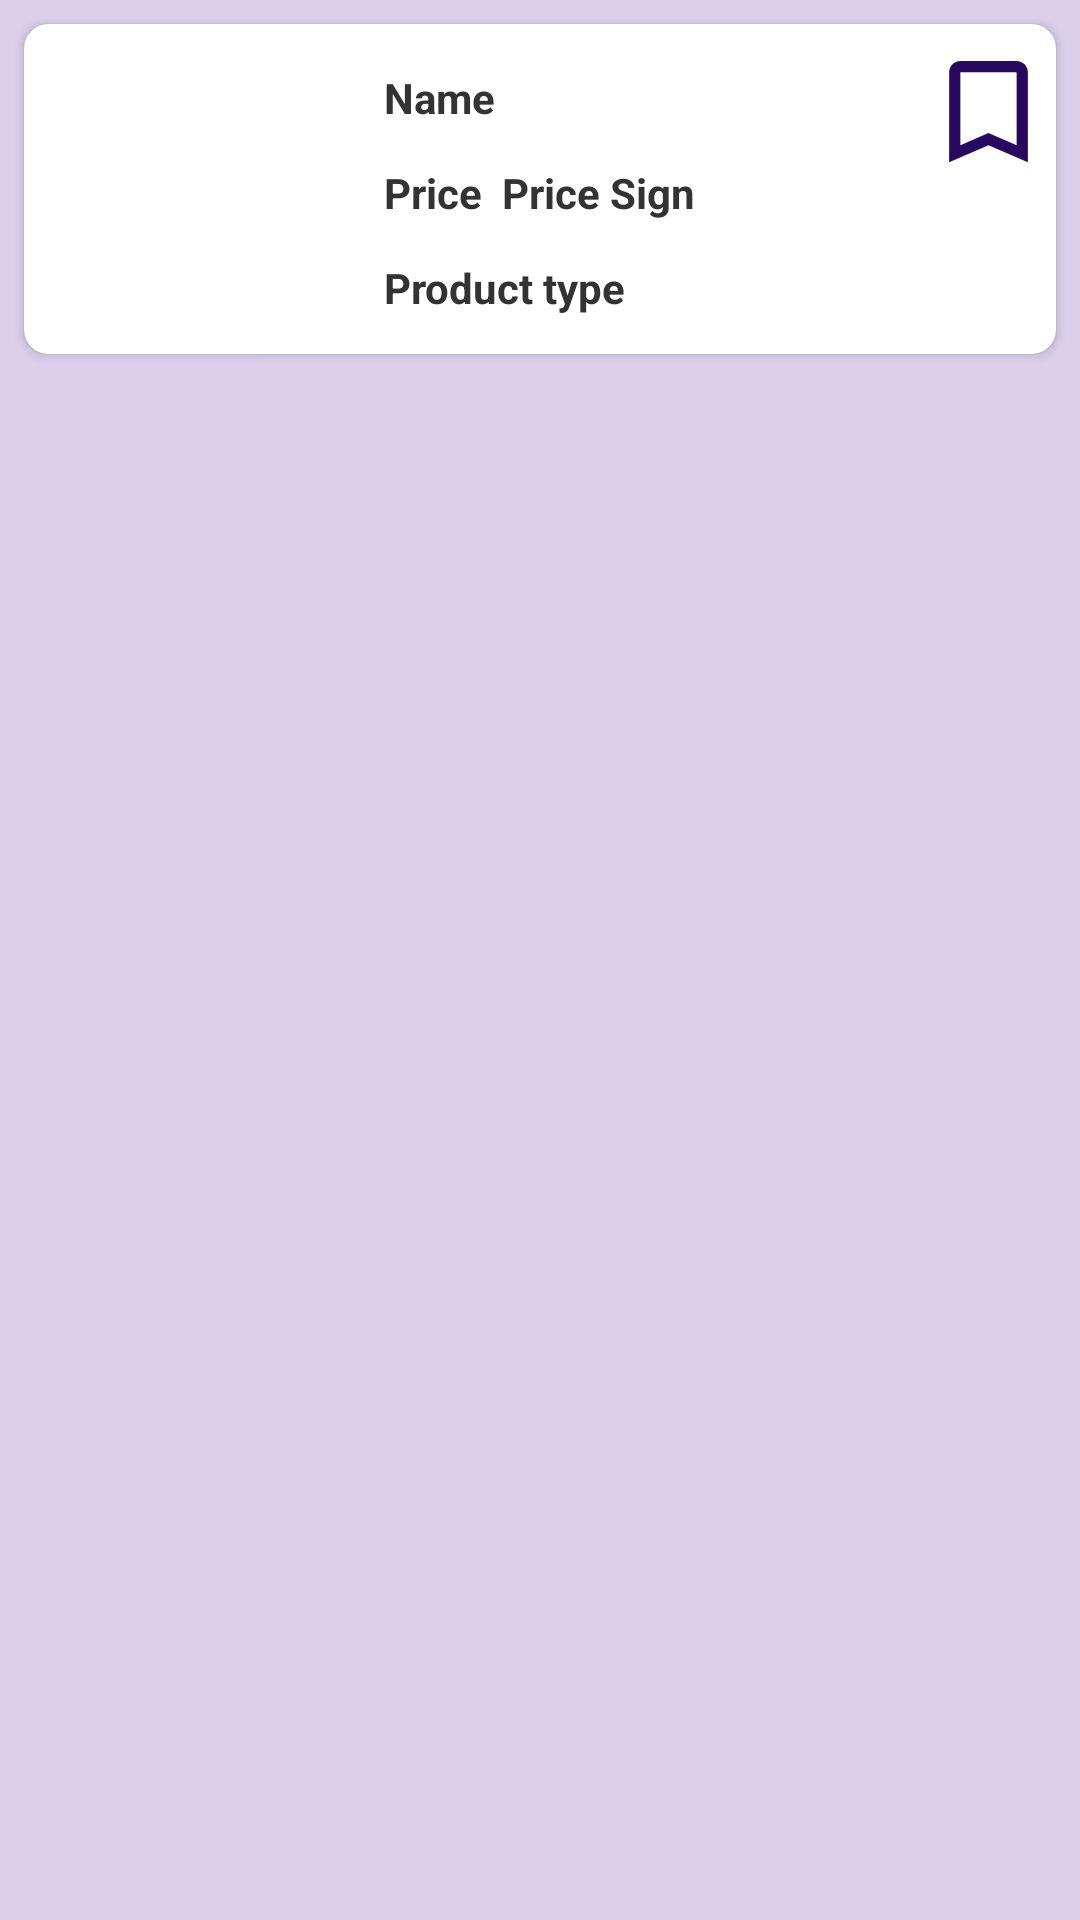

Icon click points for this 1080px×1920px phone screenshot, format [x,y]:
bookmark border: [988,111]
